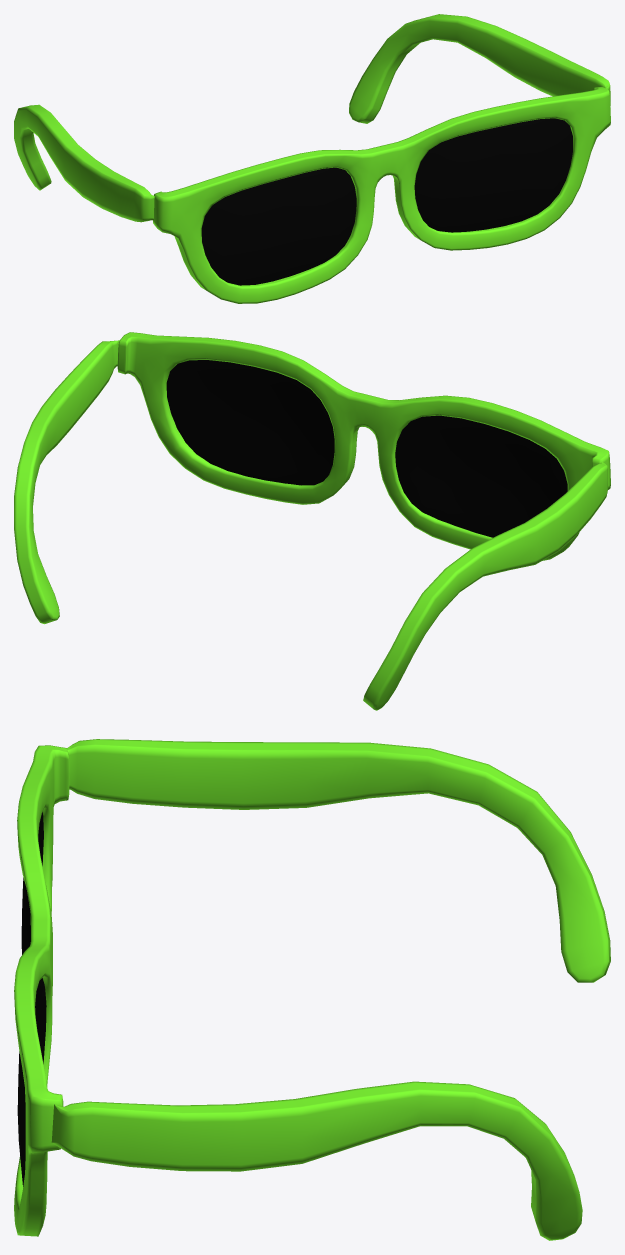
Rendered from lentes.fbx.
3 views of the same model, one above another, from view 1: azimuth 30°, elevation 25°; view 2: azimuth 150°, elevation 25°; view 3: azimuth 270°, elevation 25° (orthographic). The views are drawn at different scales.
Visible parts, largest first — view 1: polySurface9; view 2: polySurface9; view 3: polySurface9.
Part boxes in pixels (x1=…): polySurface9: x1=14, y1=14, x2=610, y2=303; polySurface9: x1=14, y1=332, x2=610, y2=710; polySurface9: x1=14, y1=739, x2=610, y2=1240.
Bounding box in the file's own units: 16.1 × 4.58 × 10.81.
